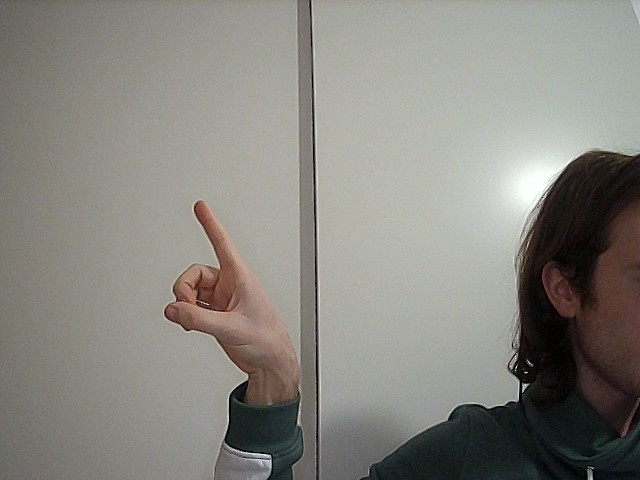d: (128, 187, 318, 379)
